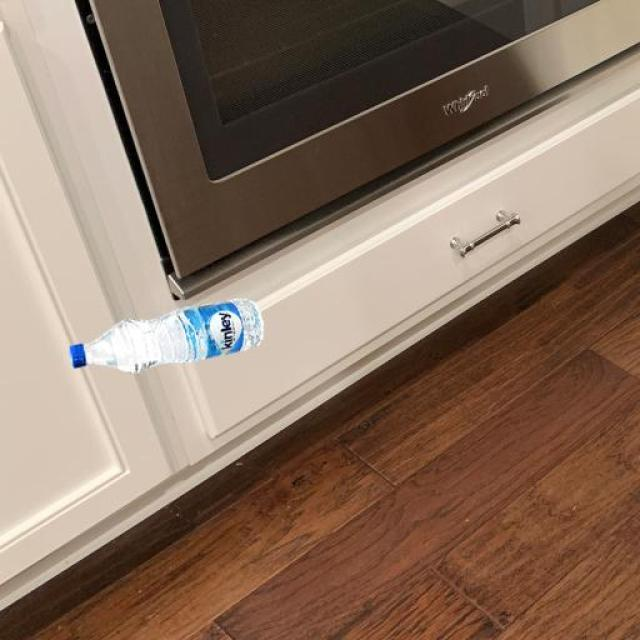bottle: (68, 296, 264, 375)
